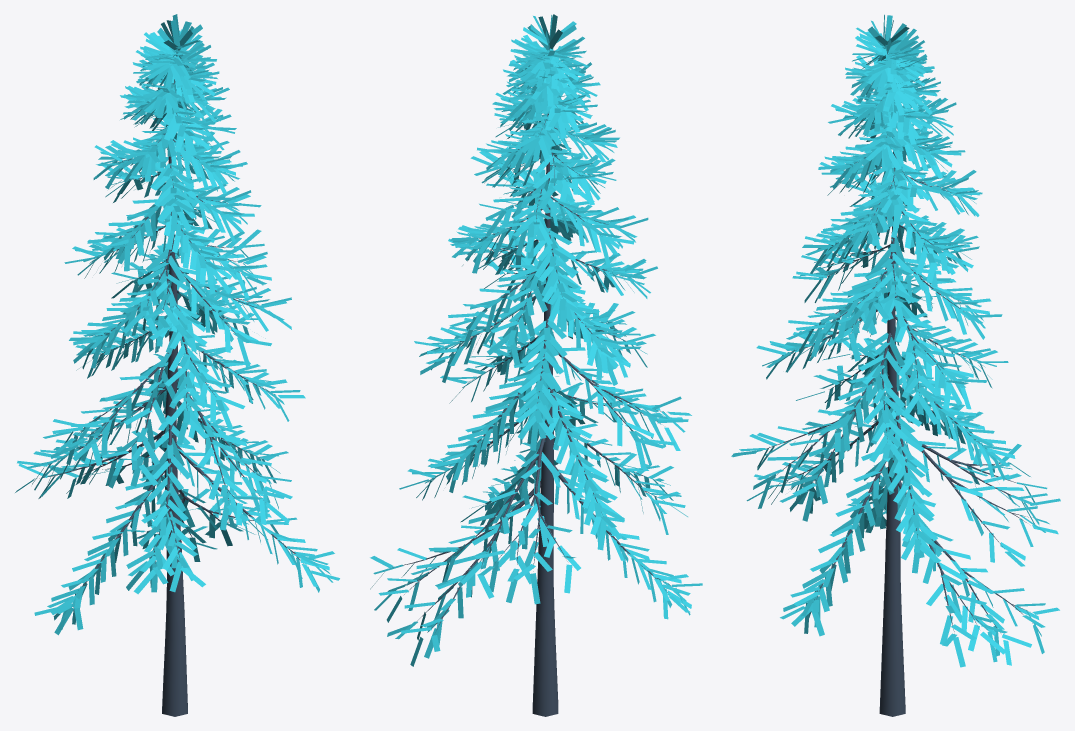
Rendered from tree6.fbx.
3 views of the same model, side by side, from view 1: azimuth 30°, elevation 25°; view 2: azimuth 150°, elevation 25°; view 3: azimuth 270°, elevation 25° (orthographic).
Visible parts, largest first — view 1: leaves.005, tree.005; view 2: leaves.005, tree.005; view 3: leaves.005, tree.005.
Boxes of the visible parts, x1,y1,x2,y2 form: leaves.005: [15, 14, 339, 635]; tree.005: [39, 53, 303, 716]; leaves.005: [370, 14, 702, 666]; tree.005: [392, 48, 671, 716]; leaves.005: [731, 14, 1060, 667]; tree.005: [766, 50, 1032, 716].
Size of the model in its own units: 903 by 2059 by 887.
